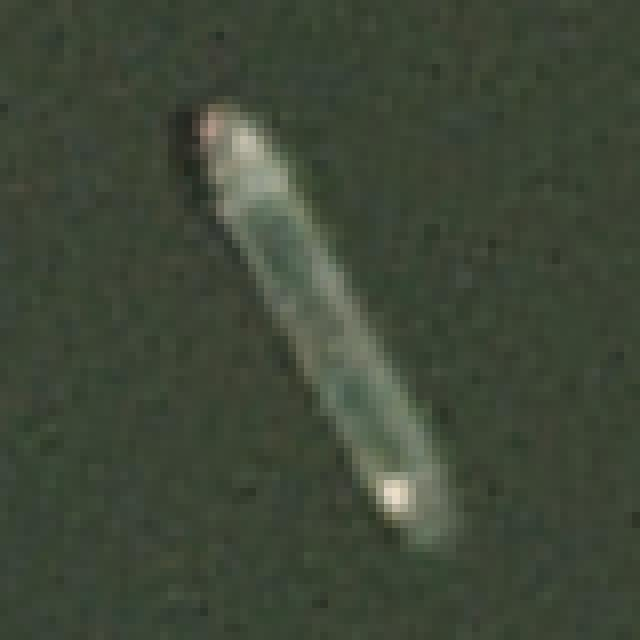ship: (143, 51, 512, 594)
